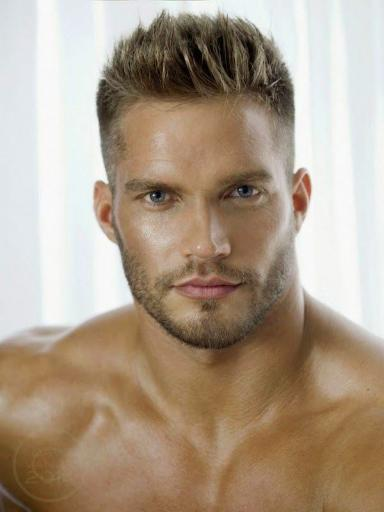left_eye: (220, 183, 268, 204)
left_lip_corner: (228, 278, 249, 297)
right_eye: (135, 187, 181, 208)
right_lip_corner: (168, 280, 188, 300)
